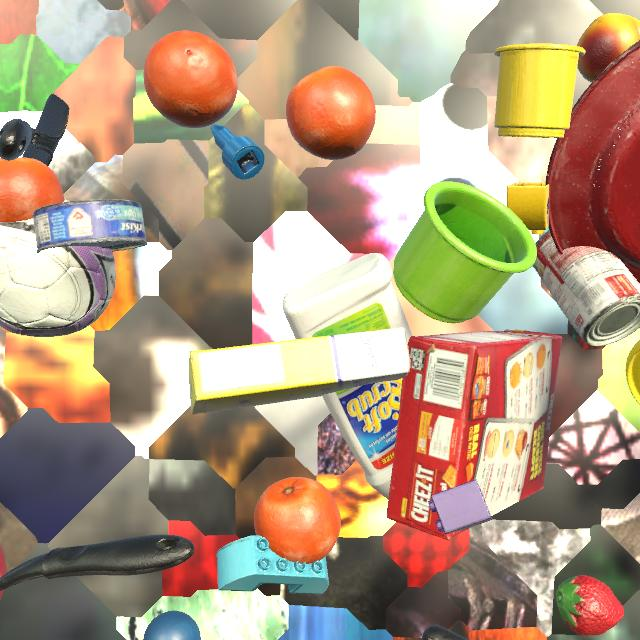ycb_003_cracker_box: (386, 330, 562, 540)
ycb_004_sugar_box: (188, 327, 411, 415)
ycb_005_tomato_soup_can: (533, 230, 640, 347)
ycb_007_tuna_fish_can: (33, 199, 147, 253)
ycb_012_strawberry: (556, 575, 624, 636)
ycb_013_apple: (0, 545, 7, 600)
ycb_015_peach: (577, 13, 640, 83)
ycb_017_orange: (144, 31, 238, 128), (286, 66, 376, 160), (254, 477, 341, 564), (0, 157, 64, 223)
